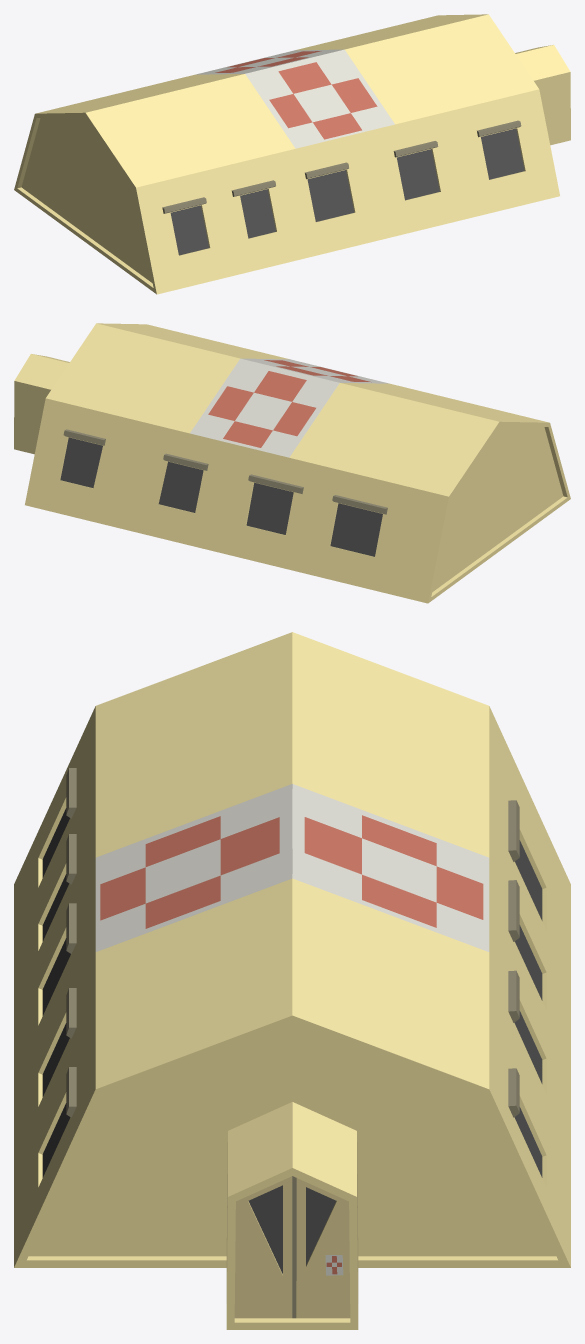
Rendered from tent.fbx.
3 views of the same model, one above another, from view 1: azimuth 30°, elevation 25°; view 2: azimuth 150°, elevation 25°; view 3: azimuth 270°, elevation 25° (orthographic). The views are drawn at different scales.
Visible parts, largest first — view 1: Cylinder; view 2: Cylinder; view 3: Cylinder.
Part boxes in pixels (<box>): Cylinder: <box>14,14,570,294</box>; Cylinder: <box>14,323,570,603</box>; Cylinder: <box>14,632,570,1329</box>.
Bounding box in the file's own units: 1606 × 424 × 849.
